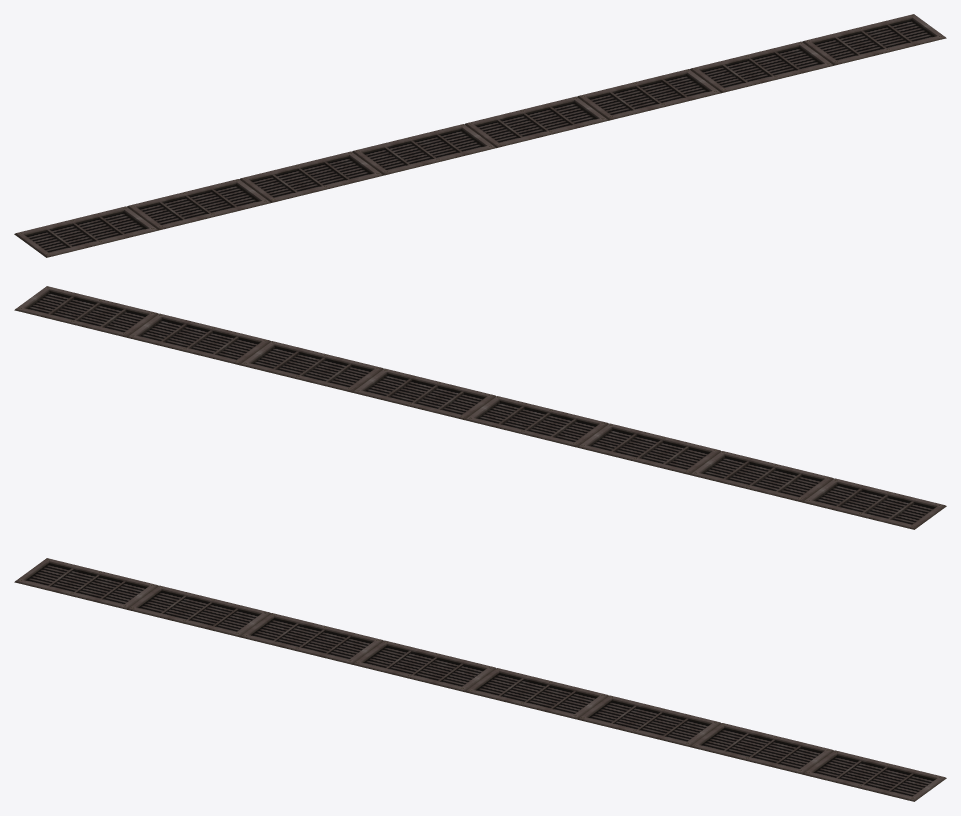
File: Elevator Area Rack Tiles 2.fbx
3 views of the same model, one above another, from view 1: azimuth 30°, elevation 25°; view 2: azimuth 150°, elevation 25°; view 3: azimuth 330°, elevation 25° (orthographic).
Visible parts, largest first — view 1: Elevator Area Rack Tiles 2; view 2: Elevator Area Rack Tiles 2; view 3: Elevator Area Rack Tiles 2.
Part boxes in pixels (bbox=[...]): Elevator Area Rack Tiles 2: bbox=[14, 14, 946, 257]; Elevator Area Rack Tiles 2: bbox=[14, 286, 946, 529]; Elevator Area Rack Tiles 2: bbox=[14, 558, 946, 801].
Bounding box in the file's own units: 48 × 0.1342 × 3.
